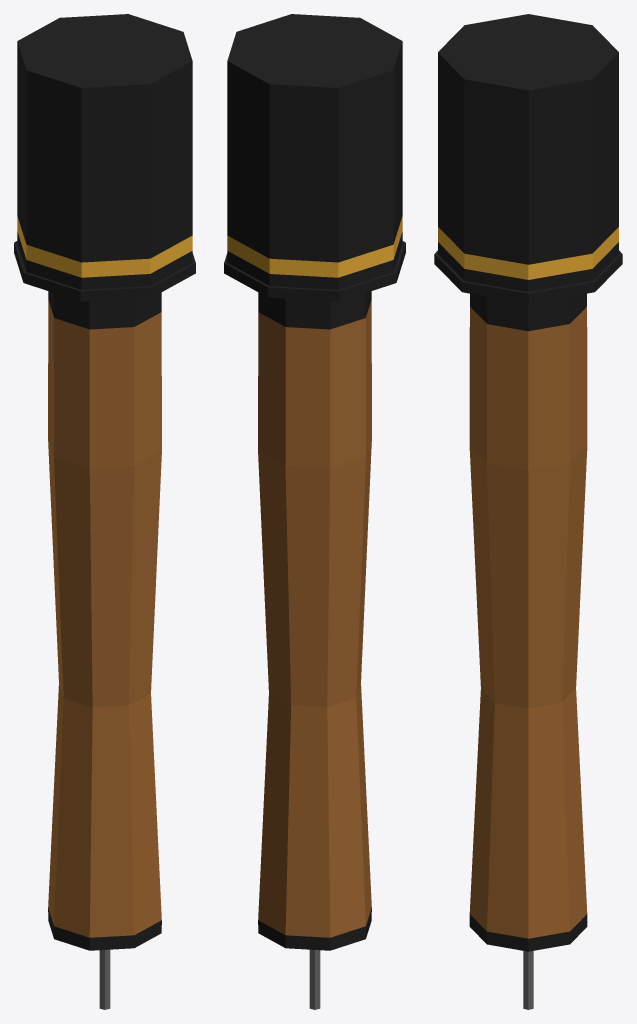
The model's file is Stick_Grenade_Dropped.fbx.
3 renders of one model, left to right at view 1: azimuth 30°, elevation 25°; view 2: azimuth 150°, elevation 25°; view 3: azimuth 270°, elevation 25°, orthographic.
Visible parts, largest first — view 1: Stick Grenade; view 2: Stick Grenade; view 3: Stick Grenade.
Boxes of the visible parts, box(x1,y1,x2,y2) form: Stick Grenade: box(14, 14, 195, 1009); Stick Grenade: box(224, 14, 405, 1009); Stick Grenade: box(434, 14, 622, 1009).
Bounding box in the file's own units: 352 × 1970 × 352.
1 material, 1 textured.
